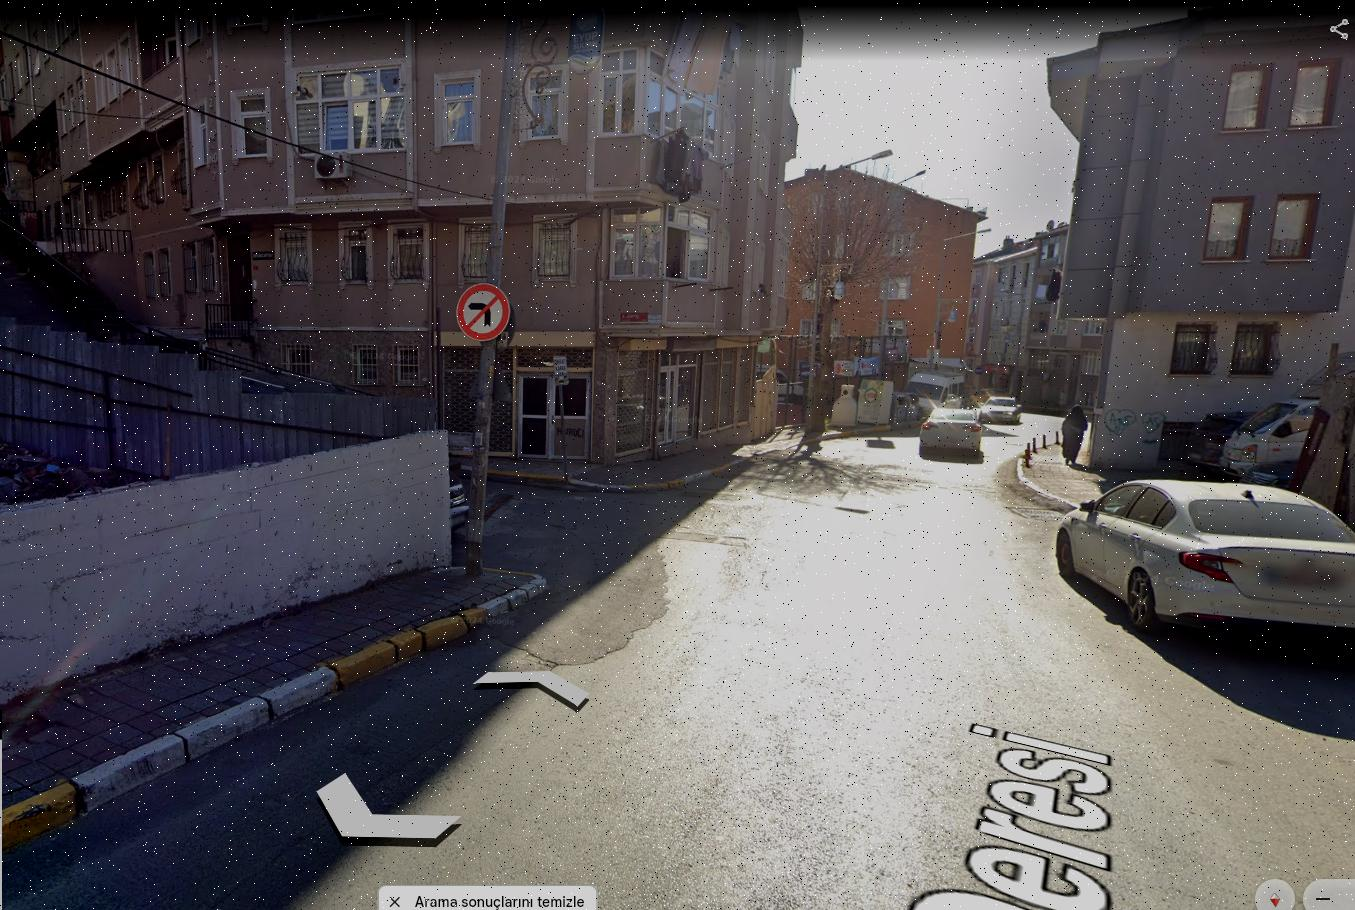leftturnsareforbidden: (458, 284, 509, 338)
